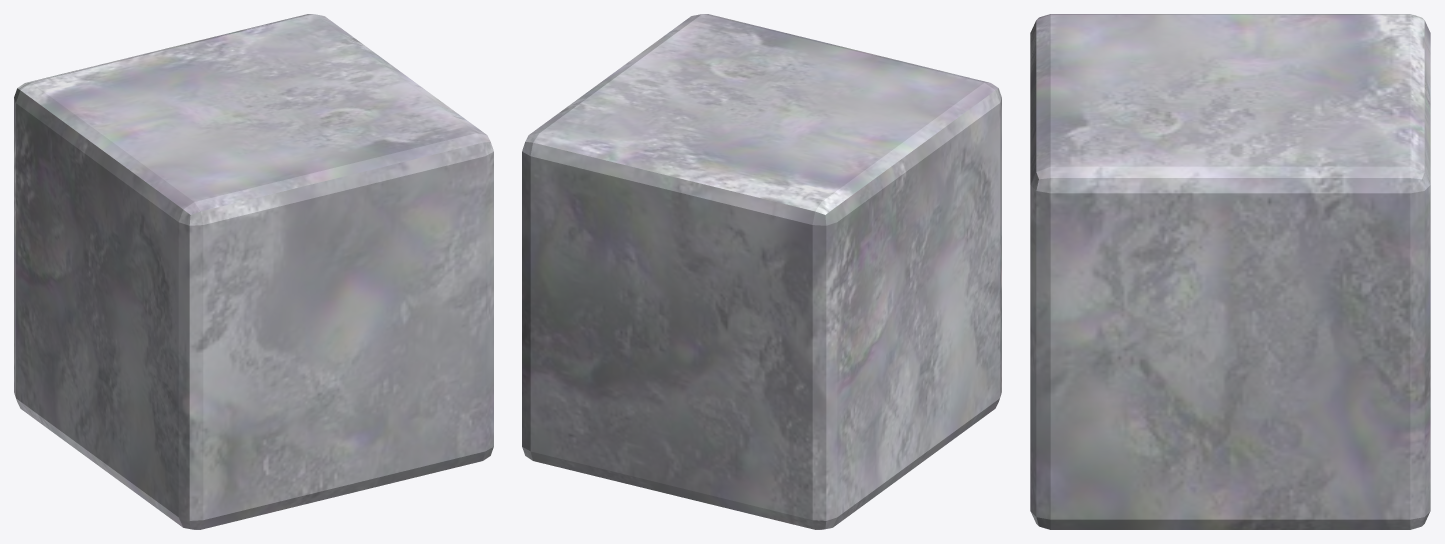
The model's file is cubo_hielo.fbx.
The picture shows the model from 3 angles, left to right: view 1: azimuth 30°, elevation 25°; view 2: azimuth 150°, elevation 25°; view 3: azimuth 270°, elevation 25°; orthographic projection. The views are drawn at different scales.
Visible parts, largest first — view 1: Cube; view 2: Cube; view 3: Cube.
Part boxes in pixels (bbox=[...]): Cube: bbox=[14, 14, 493, 529]; Cube: bbox=[522, 14, 1001, 529]; Cube: bbox=[1030, 14, 1430, 529].
Size of the model in its own units: 200 by 200 by 200.
